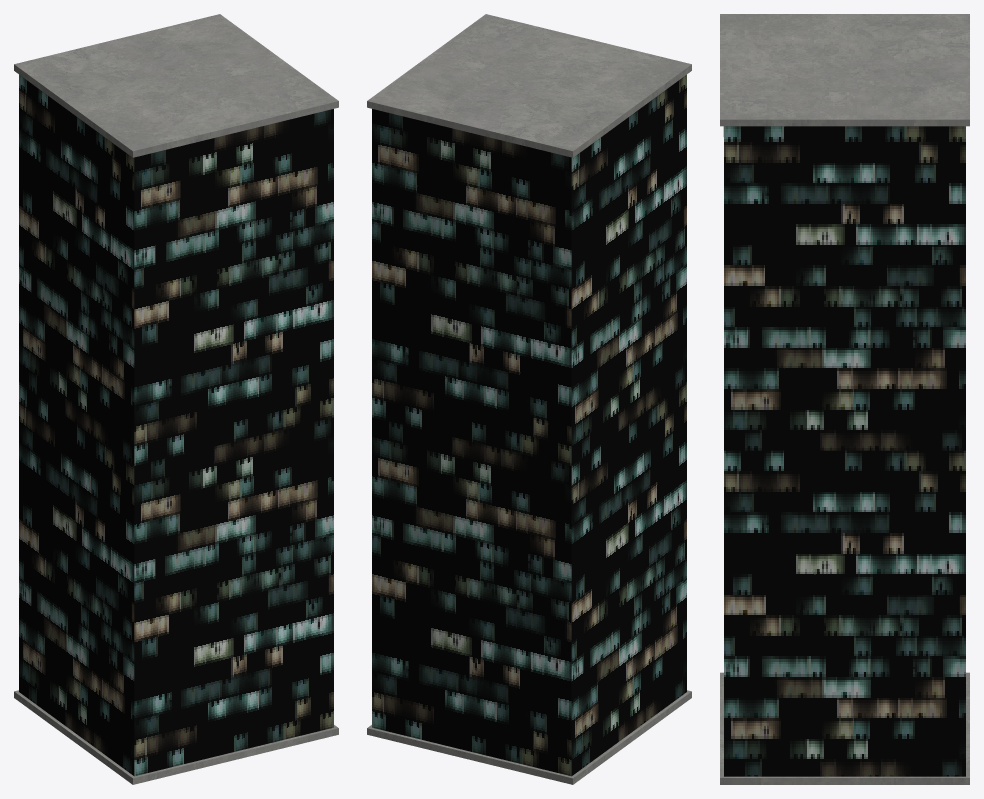
Rendered from building_02.1.glb.
3 renders of one model, left to right at view 1: azimuth 30°, elevation 25°; view 2: azimuth 150°, elevation 25°; view 3: azimuth 270°, elevation 25°, orthographic. The views are drawn at different scales.
Visible parts, largest first — view 1: building_02_12; view 2: building_02_12; view 3: building_02_12.
Part boxes in pixels (box(x1,y1,x2,y2)): building_02_12: box(14, 14, 338, 784); building_02_12: box(367, 14, 691, 784); building_02_12: box(720, 14, 969, 784).
Size of the model in its own units: 33 by 97 by 33.
Materials: 1 (1 with a texture image).
